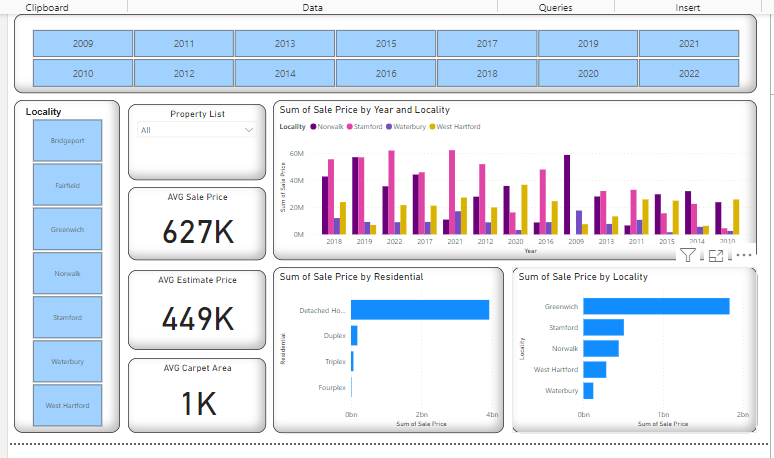

The dashboard page shown, as its layout file describes it:
{"tool":"powerbi","page":{"name":"Page 1","canvas":[1280,720],"ordinal":0},"visuals":[{"type":"slicer","fields":{"Values":["Real_Estate_Main_Table.Year"]},"box":[10.1,0,1248.1,132.7],"z":0},{"type":"card","title":"AVG Sale Price","fields":{"Values":["Real_Estate_Main_Table.Total_Sale"]},"box":[201.6,290.6,231.8,122.6],"z":1},{"type":"slicer","fields":{"Values":["Real_Estate_Main_Table.Locality"]},"box":[10.1,144.5,178.1,559.4],"z":2},{"type":"clusteredColumnChart","fields":{"Category":["Real_Estate_Main_Table.Year"],"Y":["Sum(Real_Estate_Main_Table.Sale Price)"],"Series":["Real_Estate_Main_Table.Locality"]},"box":[445.1,144.5,813,268.8],"z":4},{"type":"barChart","fields":{"Y":["Sum(Real_Estate_Main_Table.Sale Price)"],"Category":["Real_Estate_Main_Table.Locality"]},"box":[846.6,425,411.5,278.8],"z":6},{"type":"clusteredBarChart","fields":{"Category":["Real_Estate_Main_Table.Residential"],"Y":["Sum(Real_Estate_Main_Table.Sale Price)"]},"box":[445.1,425,388,278.8],"z":7},{"type":"card","title":"AVG Estimate Price","fields":{"Values":["Real_Estate_Main_Table.Average_Estimate_Value"]},"box":[201.6,430,231.8,134.4],"z":8},{"type":"card","title":"AVG Carpet Area","fields":{"Values":["Real_Estate_Main_Table.Average_carpet_area"]},"box":[201.6,577.8,231.8,126],"z":9},{"type":"slicer","title":"Property List","fields":{"Values":["Real_Estate_Main_Table.Property"]},"box":[201.6,151.2,231.8,127.7],"z":10}]}

Visuals, with their boxes in screenshot pixels (x1, y1, x2, y2):
slicer - Real_Estate_Main_Table.Year: l=12, t=12, r=756, b=91
"AVG Sale Price" card: l=126, t=185, r=264, b=258
slicer - Real_Estate_Main_Table.Locality: l=12, t=98, r=118, b=432
clusteredColumnChart - Real_Estate_Main_Table.Year x Sum(Real_Estate_Main_Table.Sale Price): l=271, t=98, r=756, b=259
barChart - Sum(Real_Estate_Main_Table.Sale Price) x Real_Estate_Main_Table.Locality: l=511, t=266, r=756, b=432
clusteredBarChart - Real_Estate_Main_Table.Residential x Sum(Real_Estate_Main_Table.Sale Price): l=271, t=266, r=503, b=432
"AVG Estimate Price" card: l=126, t=269, r=264, b=349
"AVG Carpet Area" card: l=126, t=357, r=264, b=432
"Property List" slicer: l=126, t=102, r=264, b=178
